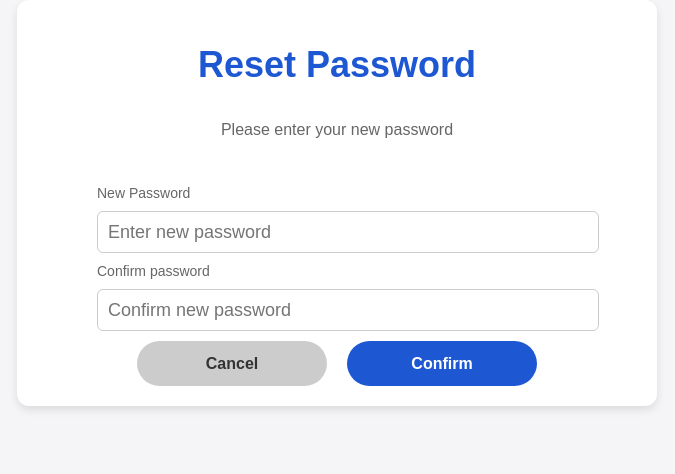
Scenario: shows an error when user info is missing from storage
Type "Validpass1!" into the password field labelled "New Password" at {"x": 348, "y": 232}, box [97,211,599,253]
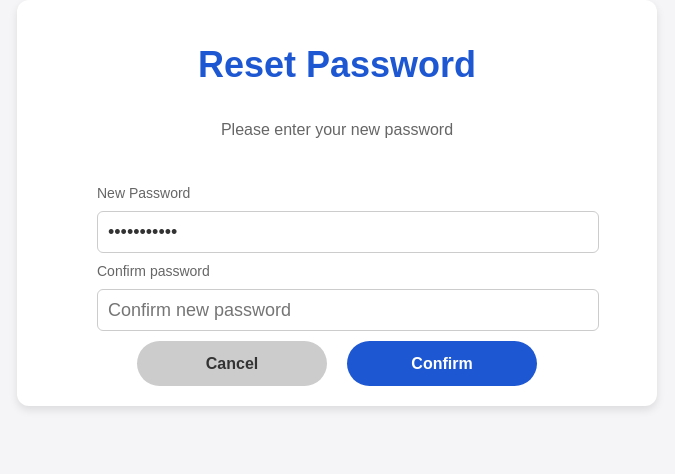
Type "Validpass1!" into the password field labelled "Confirm password" at {"x": 348, "y": 310}, box [97,289,599,331]
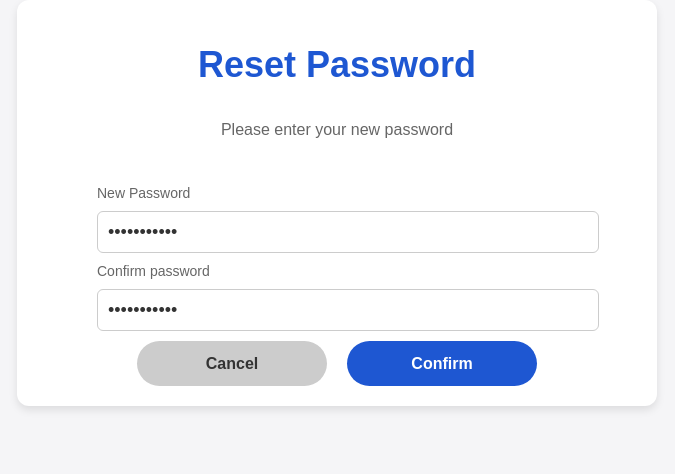
Click the button "Confirm" at {"x": 442, "y": 364}, box [347,341,537,386]
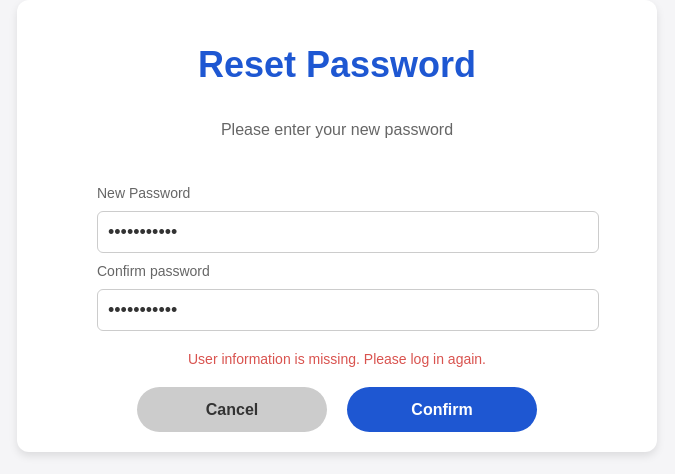
Now the text "User information is missing. Please log in again." is shown, box [188,351,486,367]
